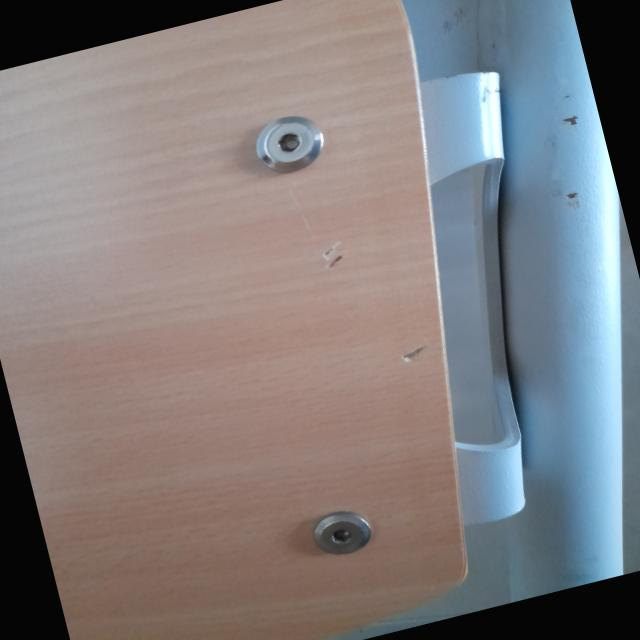Hex Socket Allen: (249, 107, 330, 178), (309, 504, 375, 562)
